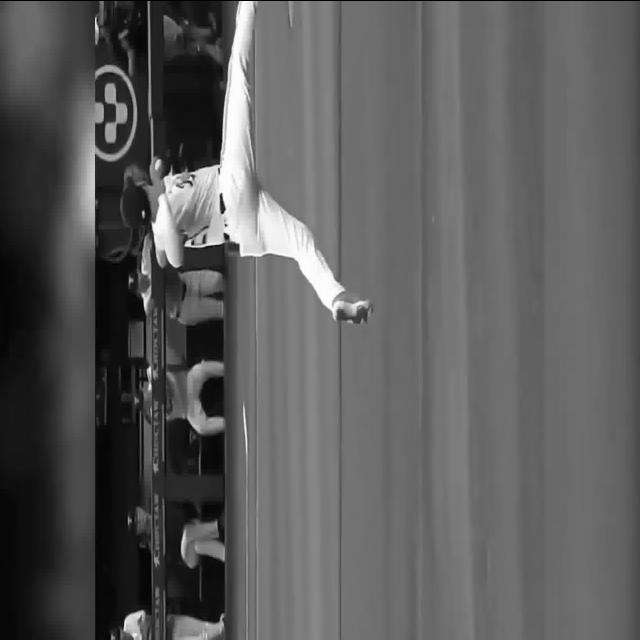baseball: (154, 158, 162, 170)
shoe: (331, 292, 373, 324)
